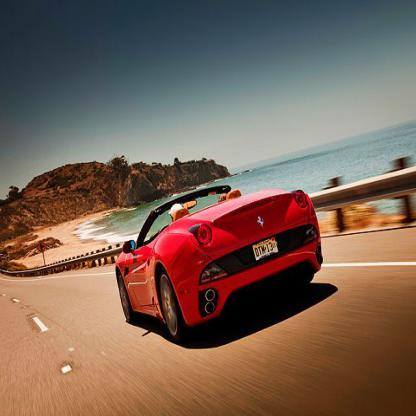Vehicle: (114, 184, 324, 342)
